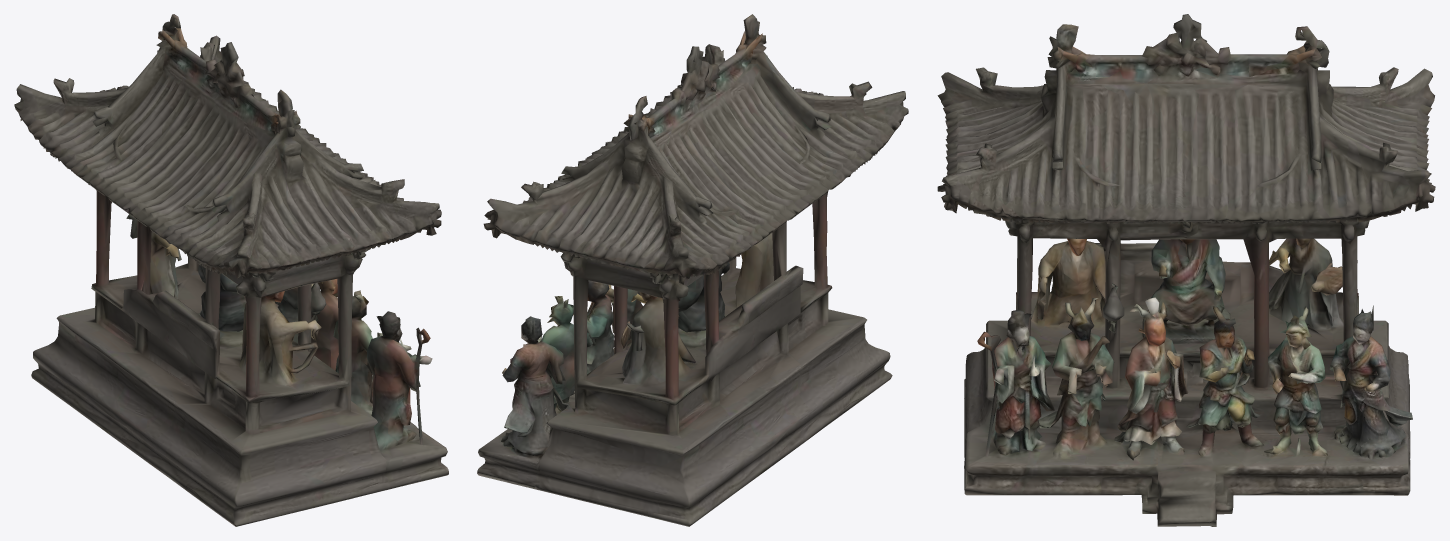
File: building-yuhuangmiao.glb
3 renders of one model, left to right at view 1: azimuth 30°, elevation 25°; view 2: azimuth 150°, elevation 25°; view 3: azimuth 270°, elevation 25°, orthographic. The views are drawn at different scales.
Parts seen in each view (by area): view 1: node_0093ad15-3534-471a-a96e-1d77a19b1772; view 2: node_0093ad15-3534-471a-a96e-1d77a19b1772; view 3: node_0093ad15-3534-471a-a96e-1d77a19b1772.
Boxes of the visible parts, left/top/right/bottom form: node_0093ad15-3534-471a-a96e-1d77a19b1772: left=14, top=14, right=448, bottom=526; node_0093ad15-3534-471a-a96e-1d77a19b1772: left=477, top=14, right=908, bottom=526; node_0093ad15-3534-471a-a96e-1d77a19b1772: left=937, top=14, right=1435, bottom=526.
Size of the model in its own units: 0.689 by 0.9434 by 1.
Materials: 1 (1 with a texture image).
